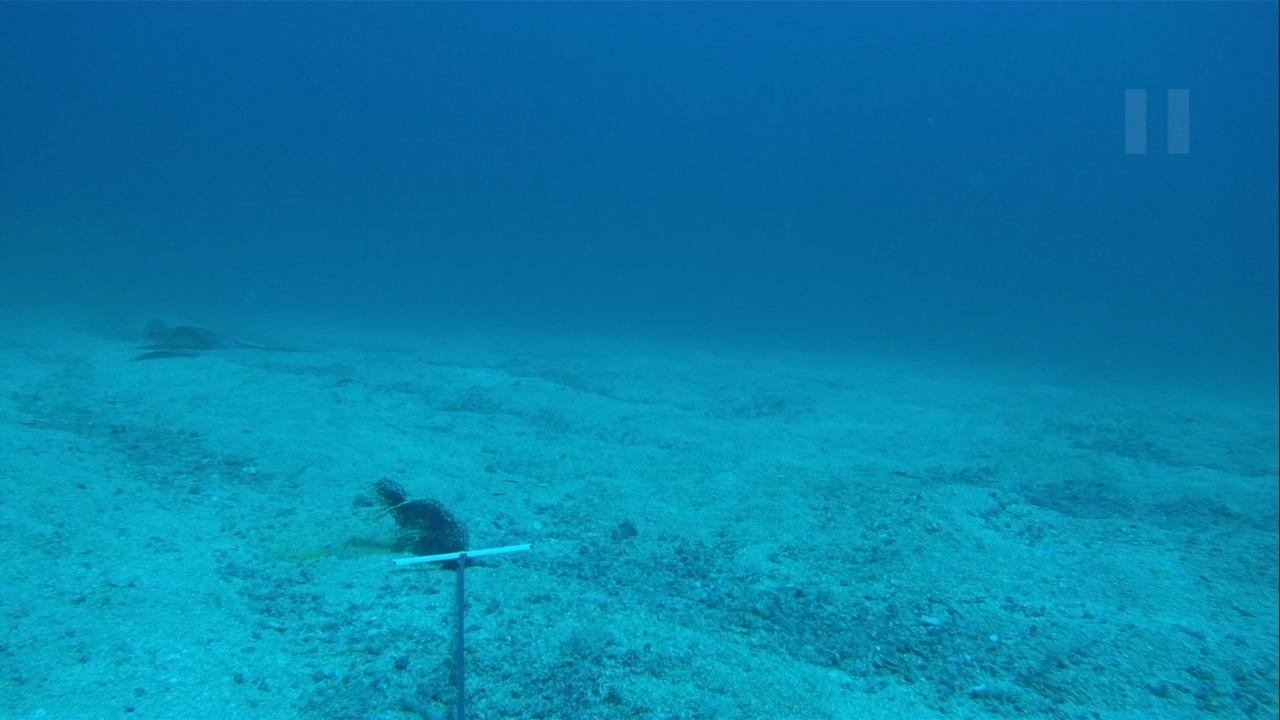myliobatis: (121, 309, 296, 363)
